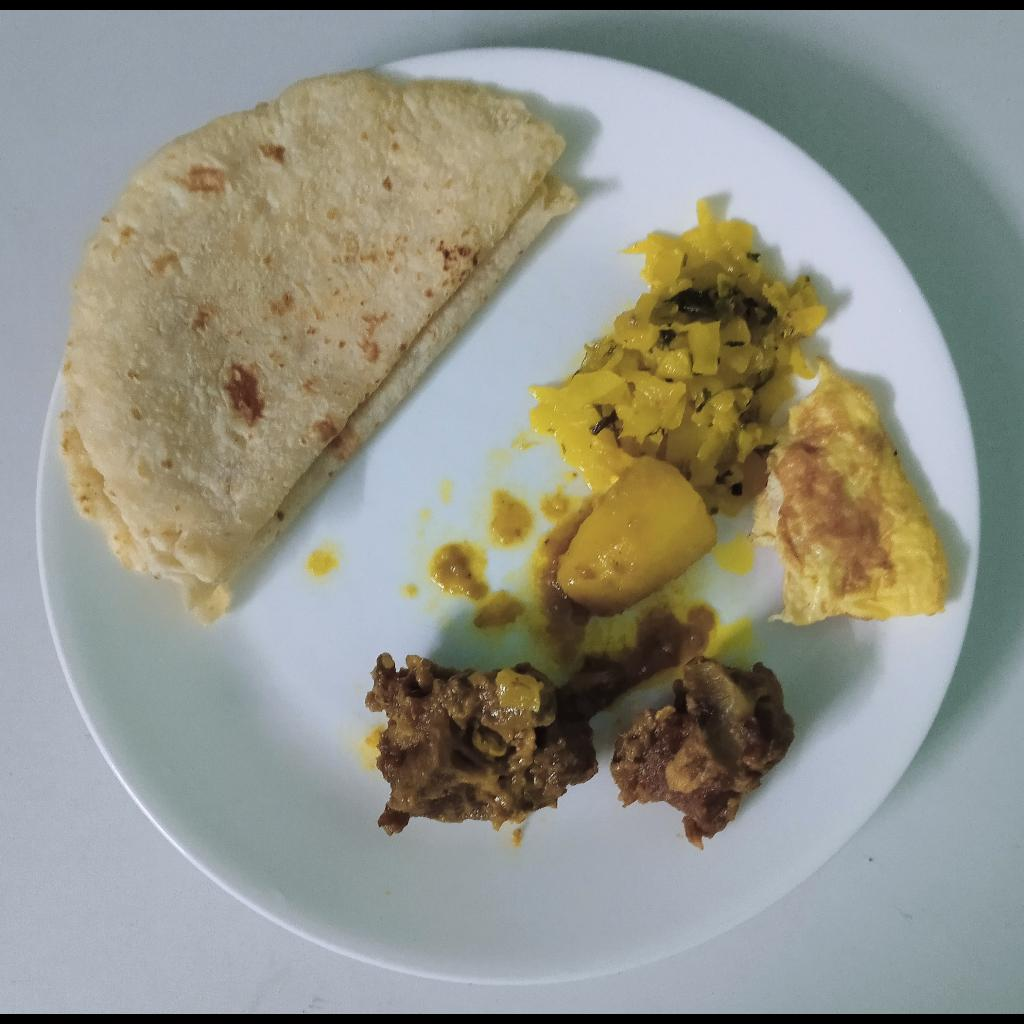beef: (366, 614, 794, 849)
egg-poached: (750, 358, 948, 624)
ruti: (59, 66, 574, 626)
vegetable: (530, 205, 827, 614)
